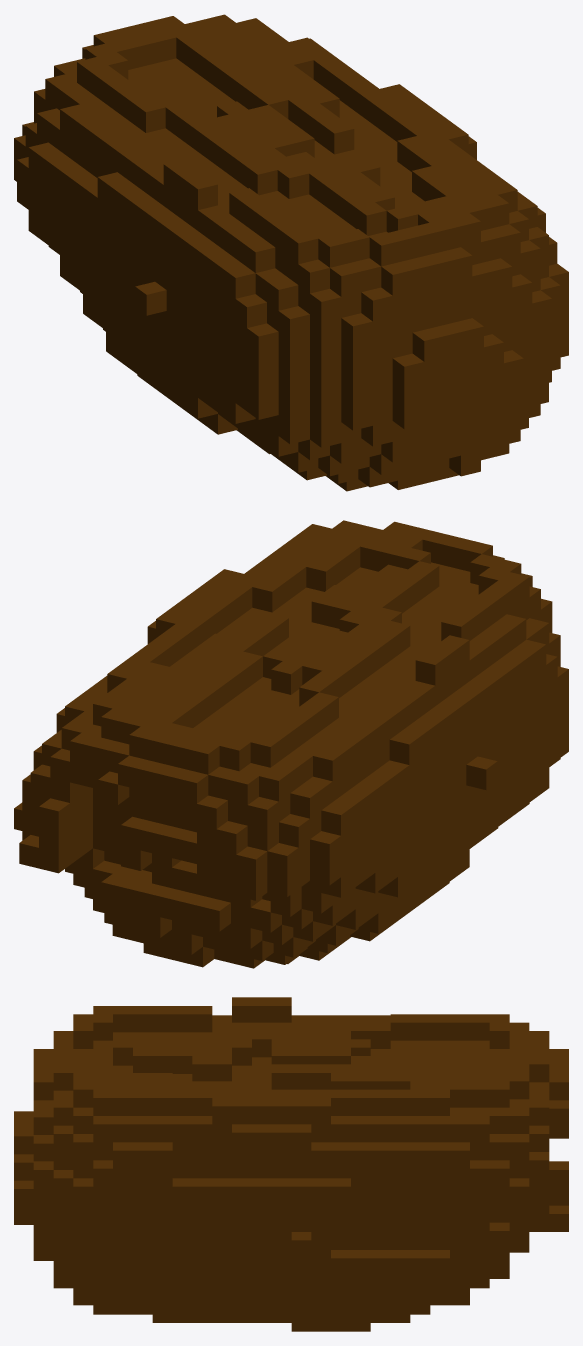
File: Rock1.gltf
3 views of the same model, one above another, from view 1: azimuth 30°, elevation 25°; view 2: azimuth 150°, elevation 25°; view 3: azimuth 270°, elevation 25° (orthographic). The views are drawn at different scales.
Parts seen in each view (by area): view 1: 球; view 2: 球; view 3: 球.
Boxes of the visible parts, x1=… form: 球: x1=14, y1=14, x2=568, y2=491; 球: x1=14, y1=520, x2=568, y2=968; 球: x1=14, y1=997, x2=568, y2=1331.
Size of the model in its own units: 2.21 by 1.69 by 3.65.
